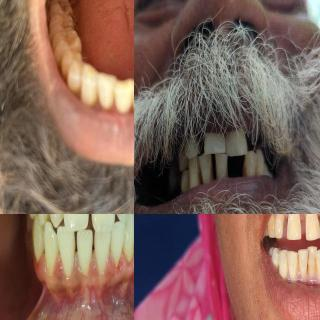calculus: (205, 165, 219, 188)
cavities: (53, 0, 69, 13)
maligned: (307, 246, 318, 280), (298, 246, 308, 281), (314, 248, 320, 284)
stains: (194, 169, 206, 189), (304, 251, 312, 278), (294, 254, 302, 278), (313, 256, 319, 277)
